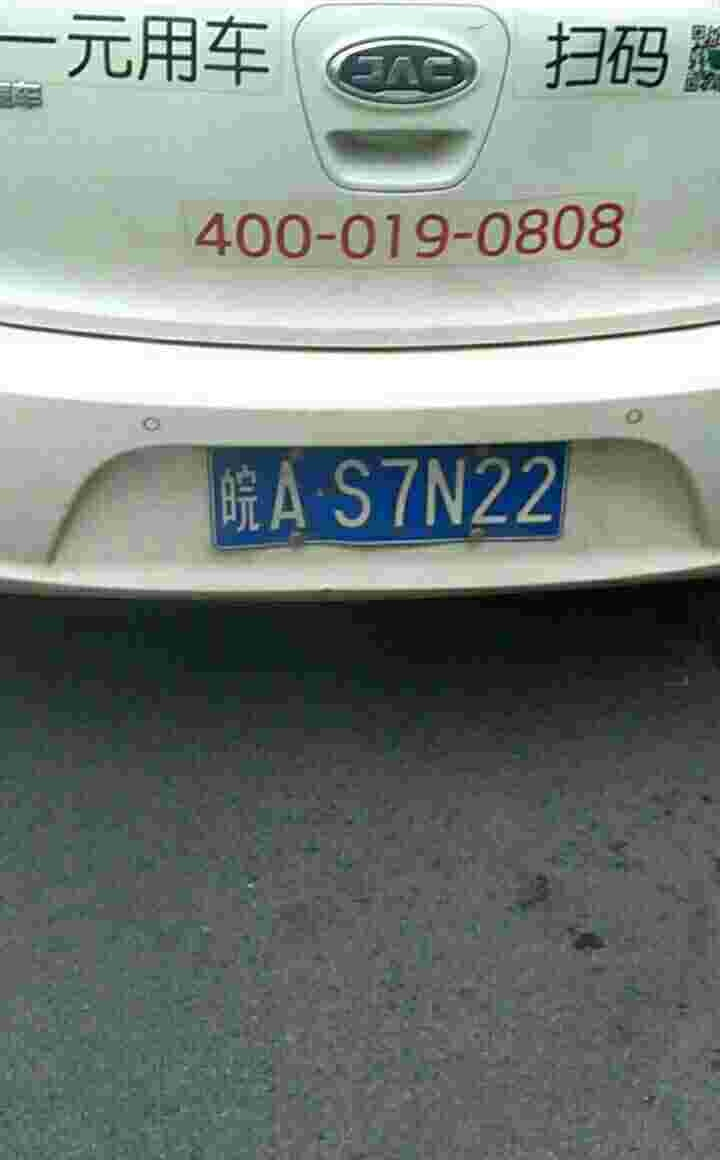license_plate: (201, 446, 562, 555)
